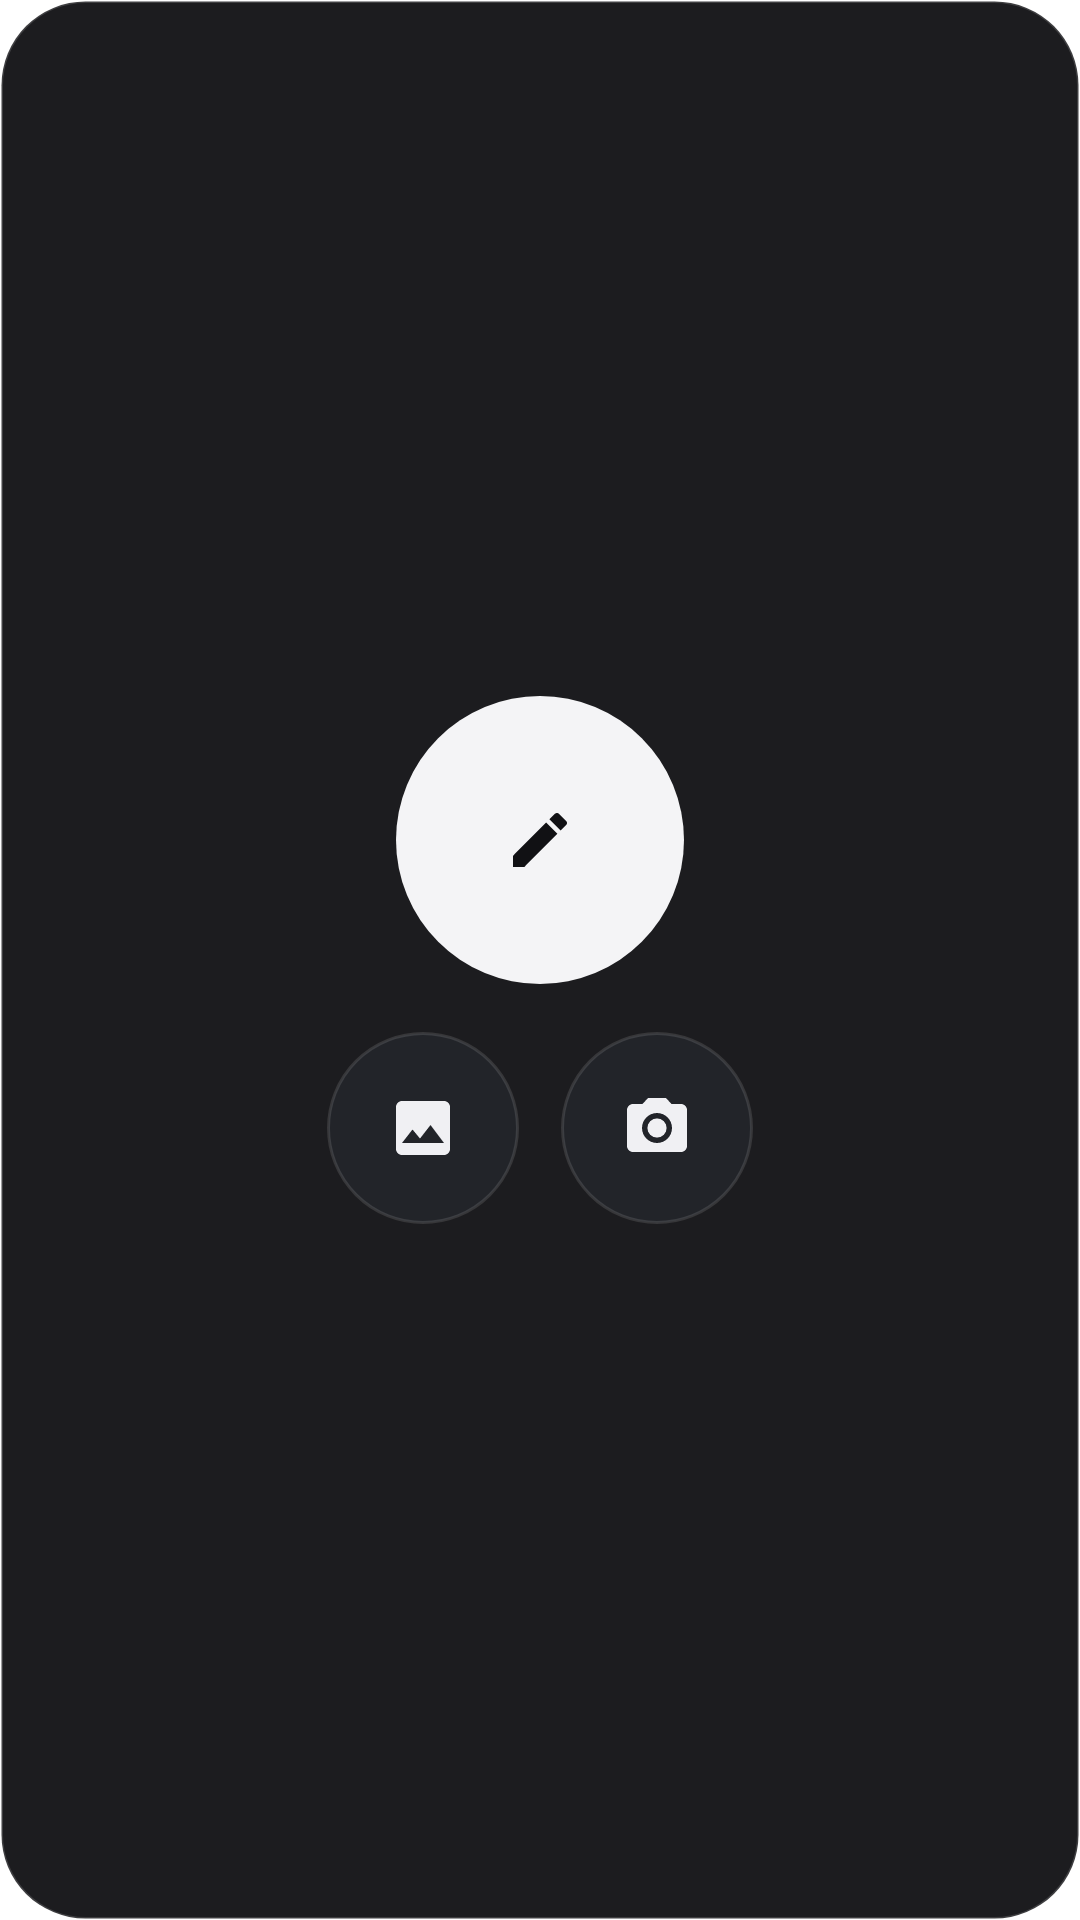

Screen size 1080x1920. Icon name, then its box in pixels as (x1, y1, x2, y2):
widget camera: (627, 1098, 687, 1152)
widget gallery: (396, 1101, 450, 1155)
widget pen: (513, 813, 567, 867)
